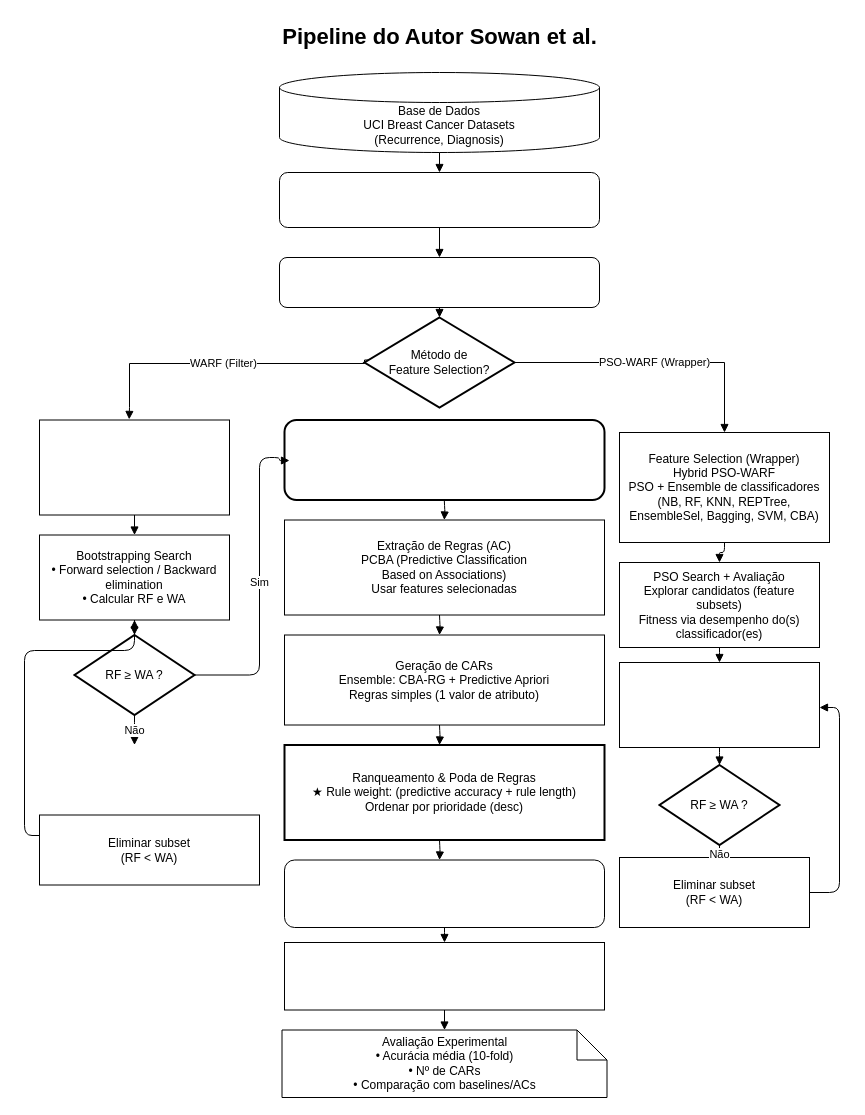
This 865x1115 diagram has some shape labels left out. The centre of each missing label's shape, as x and y in pixels:
Bootstrapping + WARF • Agregar features selecionadas • Calcular RF e WA: the point at 719,705
Classificação de Instâncias Aplicar regras ao Ts (por fold) Gerar predição: the point at 444,976
Construção do Classificador Conjunto final de CARs Default: classe majoritária: the point at 444,893
Feature Selection (Filter) WARF-based FS Ensemble: CFS, IG, GR, χ², ReliefF: the point at 134,467
Pré-Processamento • Discretização • Tratamento de valores ausentes: the point at 439,200
Subconjunto Ótimo de Features: the point at 444,459
Validação Cruzada 10-fold (k=10) Gerar folds de Treino (Tr) / Teste (Ts): the point at 439,282
